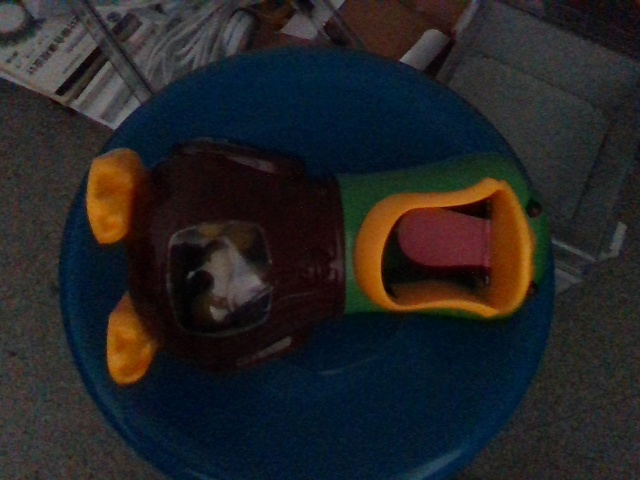toy: (85, 136, 550, 389)
